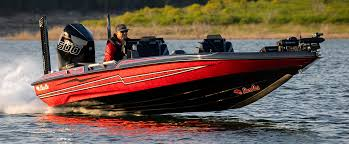boat: (32, 14, 324, 117)
